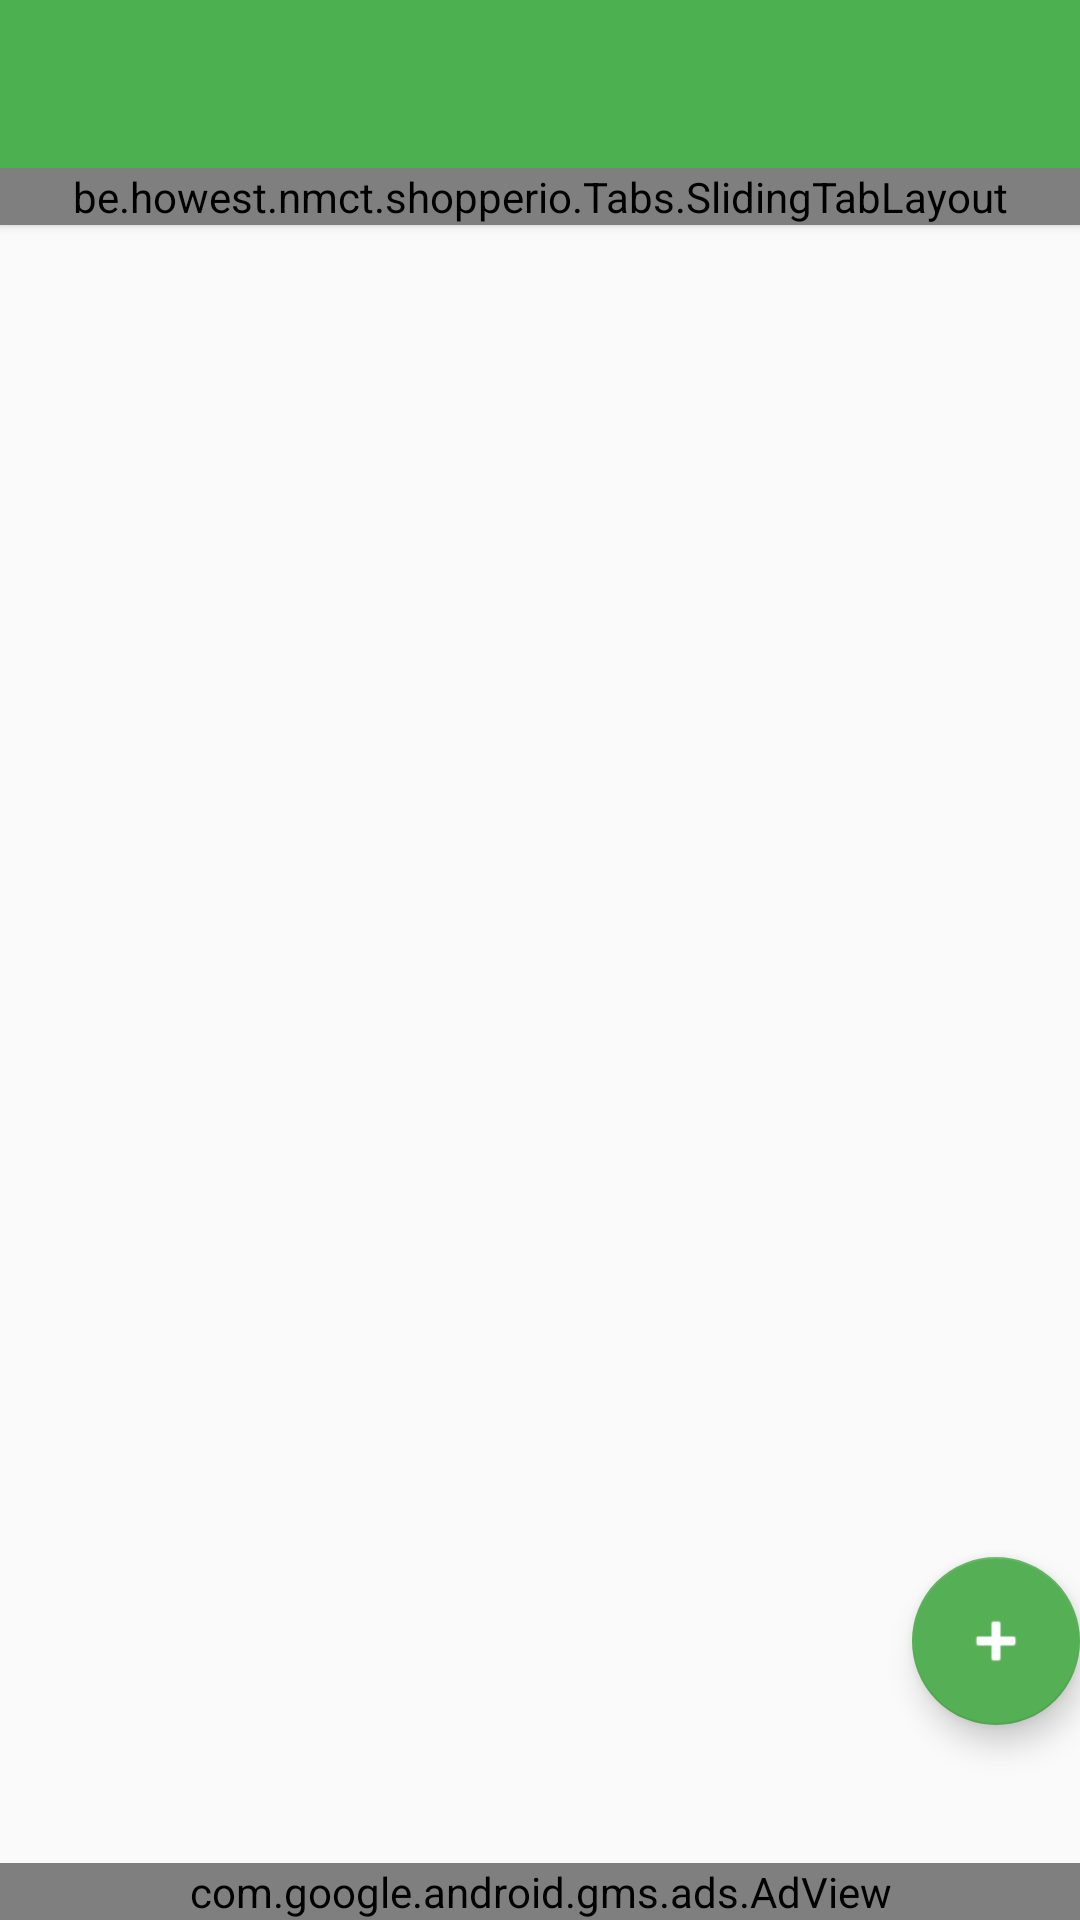

Screen size 1080 x 1920. Icon name, then its center in pixels as (x=x, y=y):
add: (x=996, y=1641)
